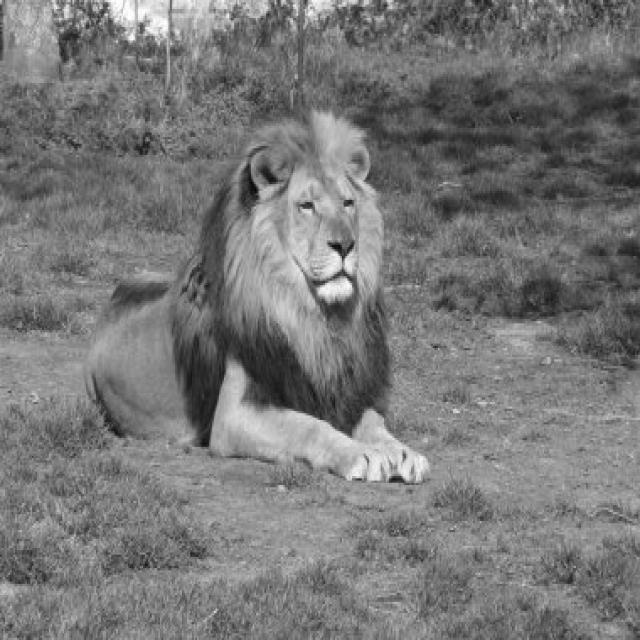Animal: (86, 110, 430, 482)
